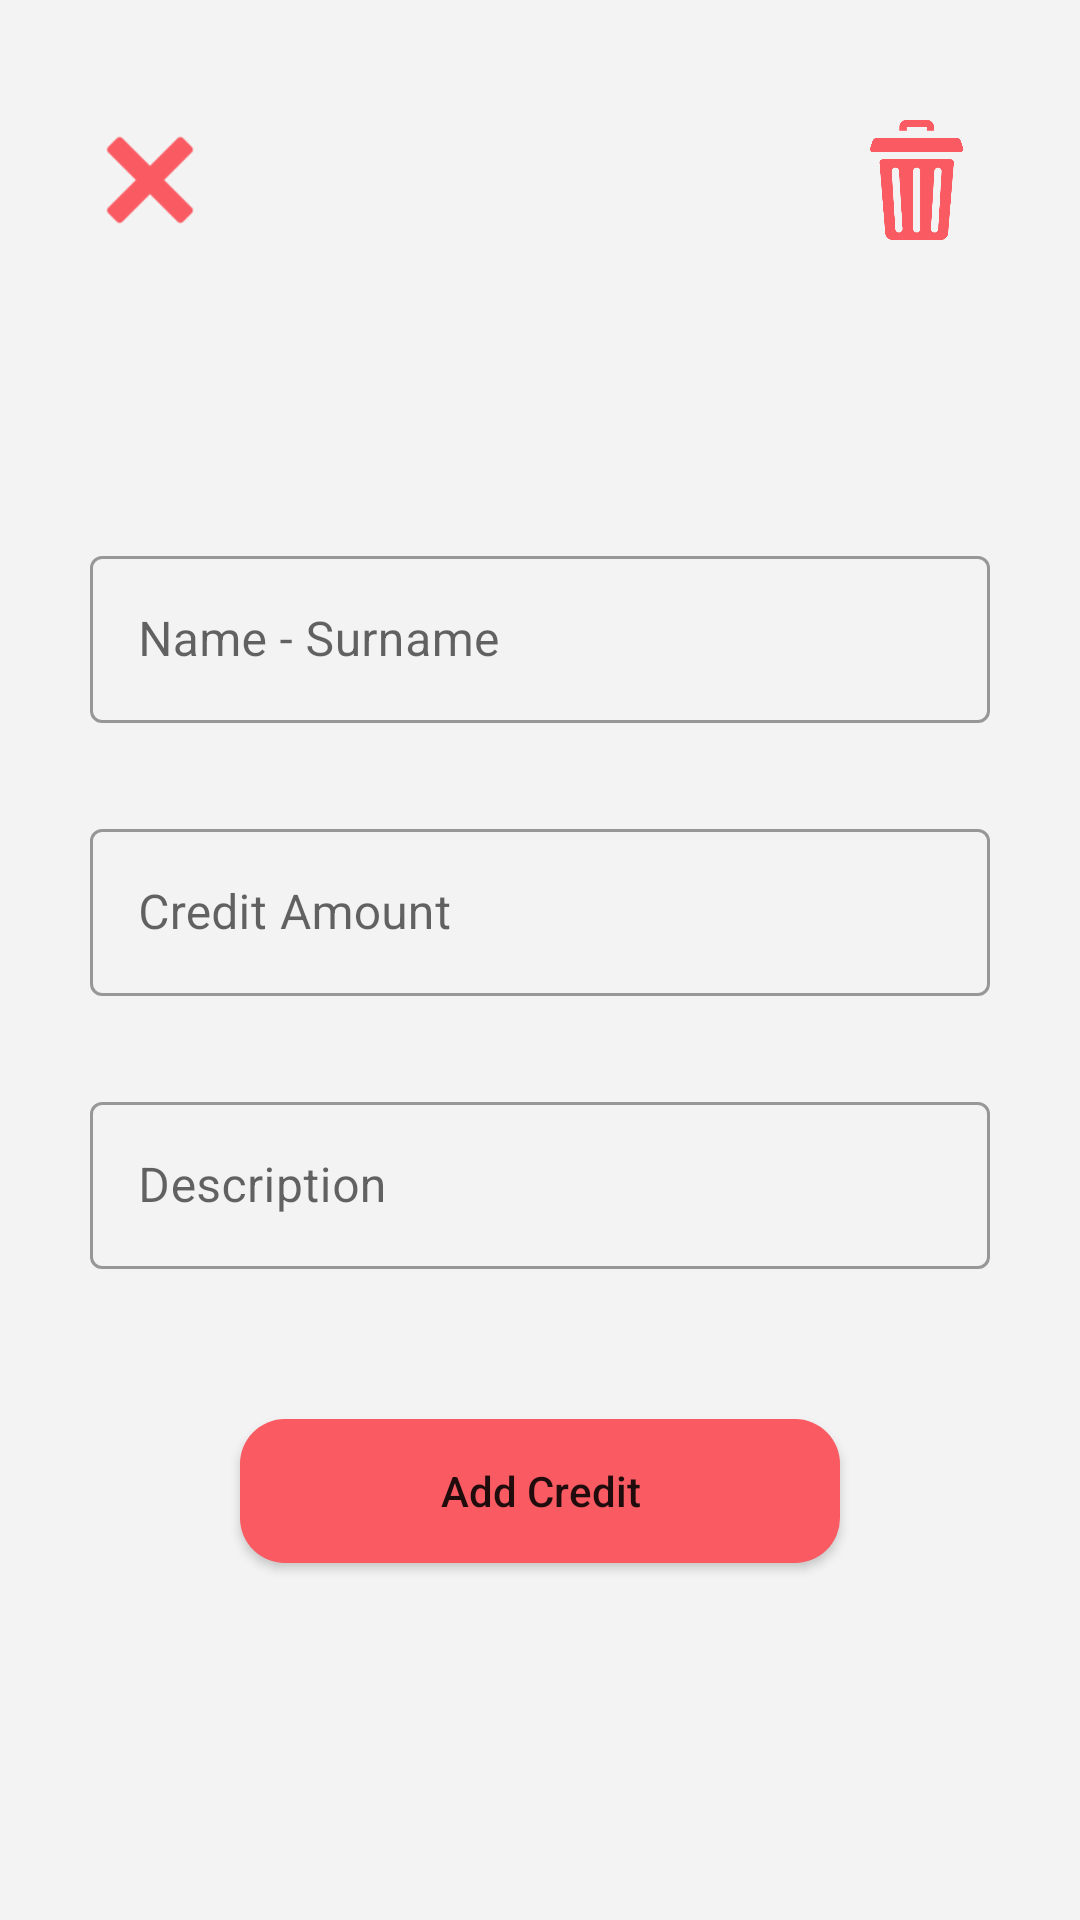

Icon bounding boxes for this 1080 × 1920 phone screenshot, format {"left": x1, "top": y1, "right": x2, "bottom": y2}:
cross: {"left": 106, "top": 136, "right": 194, "bottom": 224}
delete: {"left": 870, "top": 120, "right": 963, "bottom": 240}
